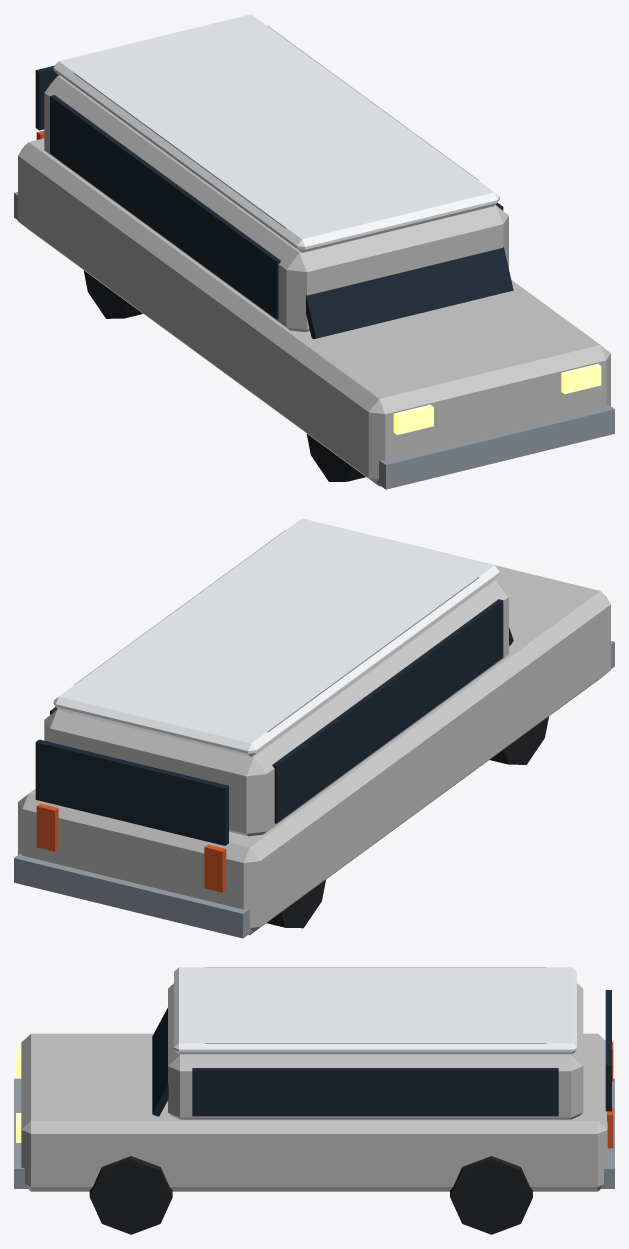
The model's file is wagon.glb.
3 renders of one model, top to bottom at view 1: azimuth 30°, elevation 25°; view 2: azimuth 150°, elevation 25°; view 3: azimuth 270°, elevation 25°, orthographic. The views are drawn at different scales.
Parts seen in each view (by area): view 1: wagon; view 2: wagon; view 3: wagon.
Boxes of the visible parts, <box> form: wagon: <box>14,14,614,489</box>; wagon: <box>14,518,614,938</box>; wagon: <box>14,967,614,1234</box>.
Bounding box in the file's own units: 1.92 × 1.61 × 4.92.
